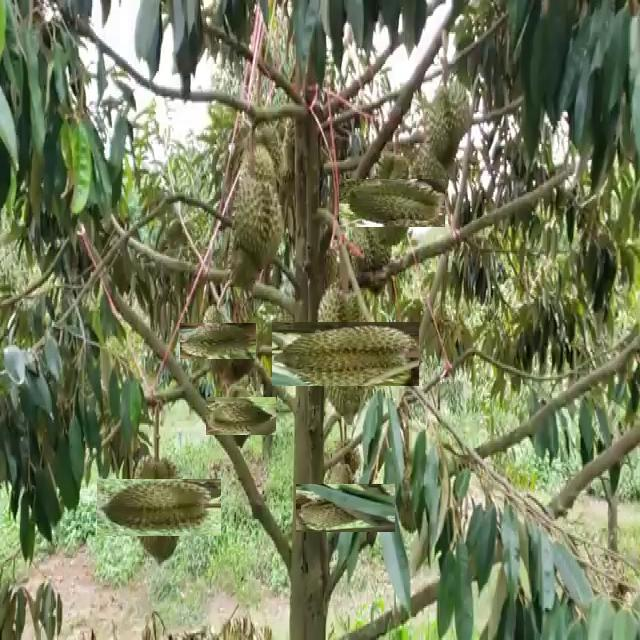durian: (292, 300, 399, 407), (225, 138, 282, 294), (114, 461, 204, 553), (353, 164, 430, 242), (309, 471, 383, 545), (424, 72, 477, 168), (407, 142, 453, 224), (190, 313, 246, 370), (214, 389, 268, 444)
